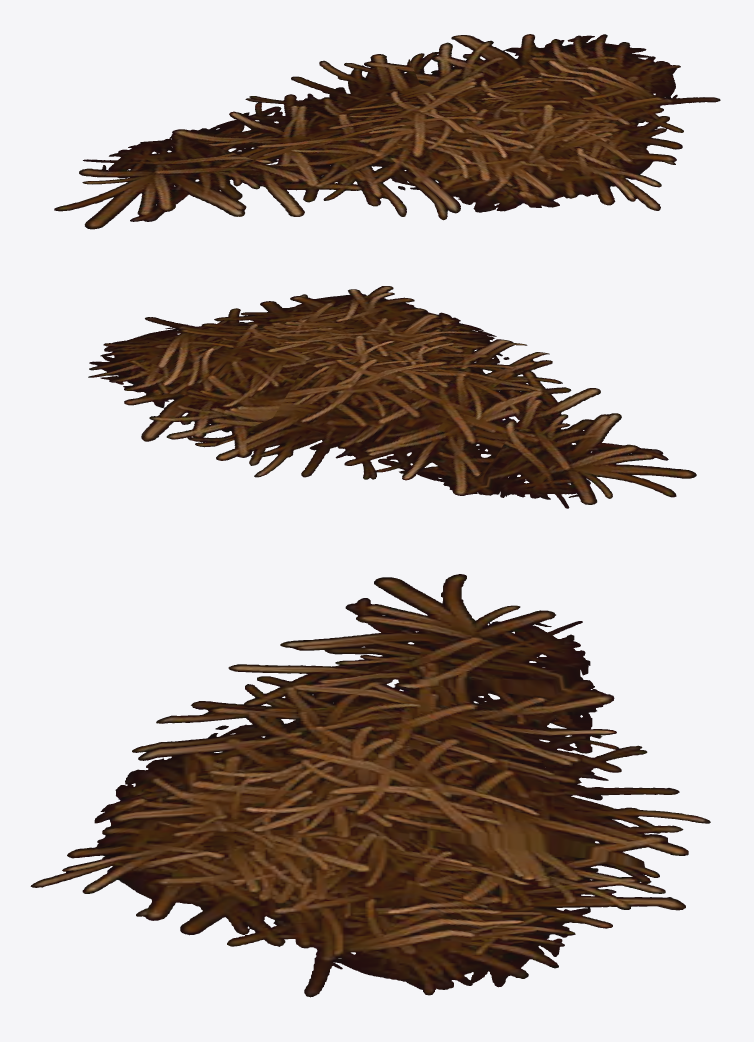
3 views of the same model, one above another, from view 1: azimuth 30°, elevation 25°; view 2: azimuth 150°, elevation 25°; view 3: azimuth 270°, elevation 25° (orthographic). The views are drawn at different scales.
Parts seen in each view (by area): view 1: SM_Hay_Pile_03_LOD0; view 2: SM_Hay_Pile_03_LOD0; view 3: SM_Hay_Pile_03_LOD0.
Boxes of the visible parts, x1=… form: SM_Hay_Pile_03_LOD0: x1=54, y1=34, x2=720, y2=229; SM_Hay_Pile_03_LOD0: x1=88, y1=286, x2=696, y2=508; SM_Hay_Pile_03_LOD0: x1=30, y1=574, x2=710, y2=997.
Size of the model in its own units: 1.67 by 0.0732 by 1.1.
Materials: 1 (1 with a texture image).
